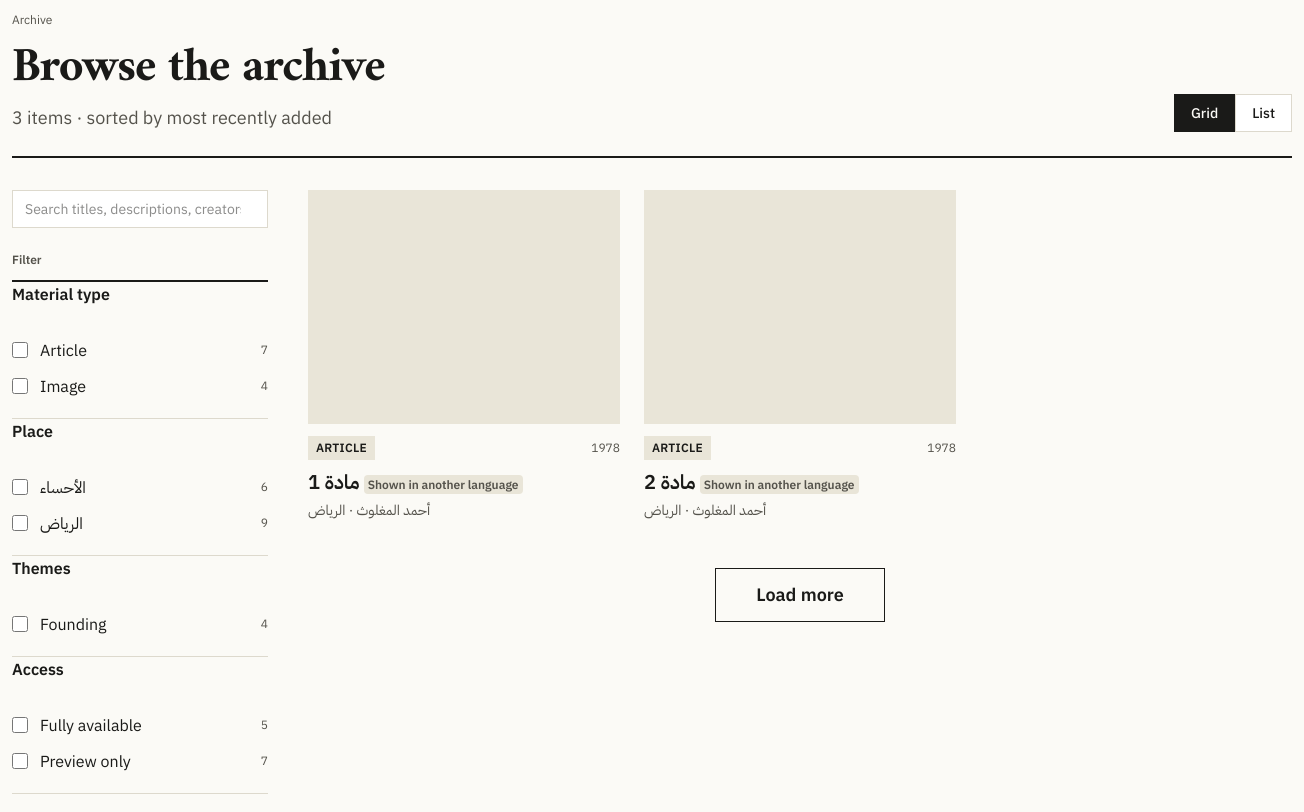
Test: ArchivePage › loads more into the same list without asking for facets again, and hides the button once everything is shown
This screenshot has width=1304, height=812.
Click the button with test id "load-more": (800, 594) [715,568,885,622]
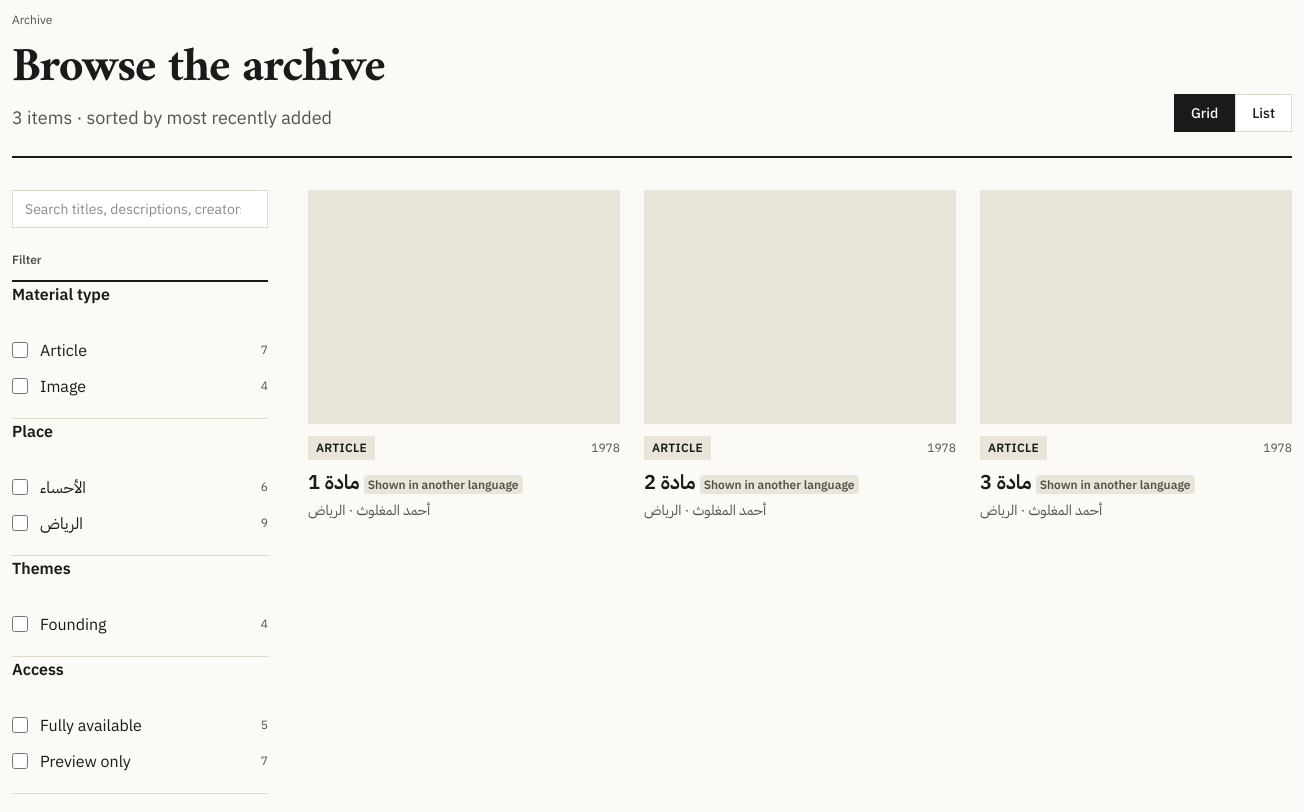
Check: the element with test id "facet-type" shows "Article", box [40,340,87,360]
Check: the number of elements with test id "archive-card" is 3, box [308,190,620,520]; [644,190,956,520]; [980,190,1292,520]
